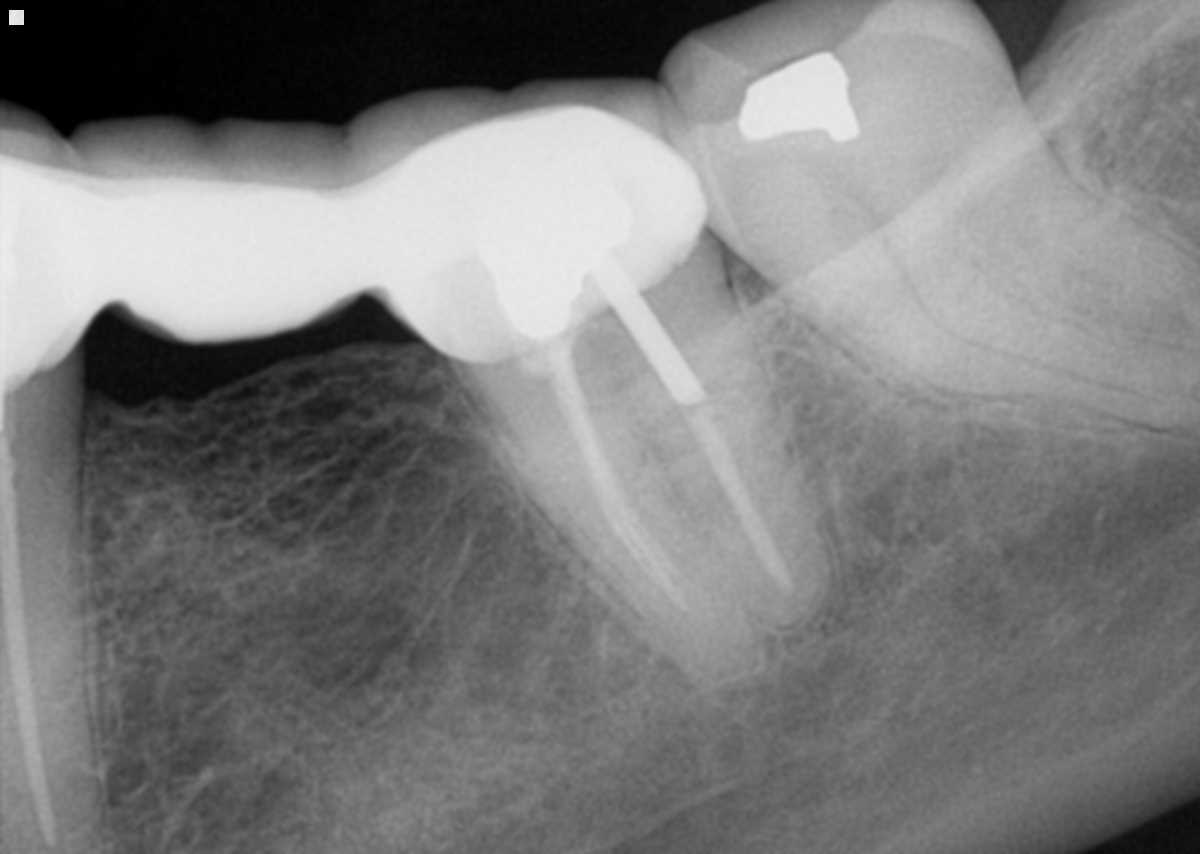Distal Root: (603, 285, 832, 626), (931, 130, 1200, 347)
Main Root: (0, 409, 103, 854)
Mesial Canal: (889, 222, 1193, 403)
Mesial Root: (808, 197, 1200, 435), (484, 350, 762, 684)
Root Canal Filling: (554, 364, 688, 609), (0, 426, 64, 850), (682, 402, 795, 597)
